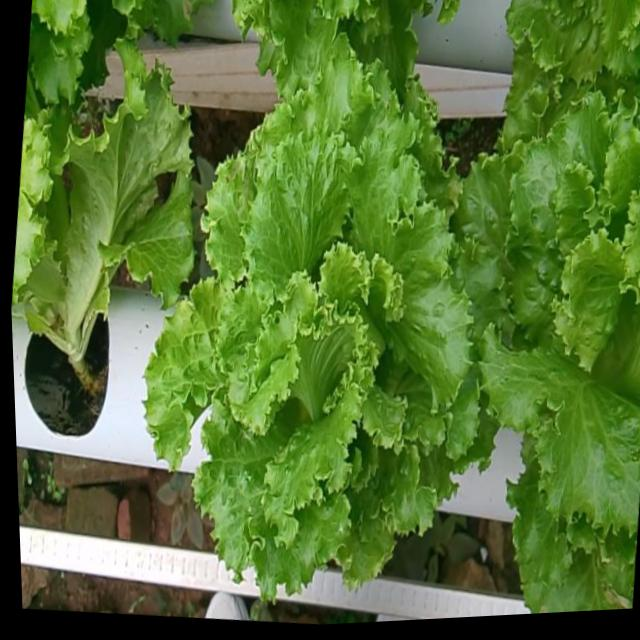Mature: (146, 64, 479, 601), (457, 97, 640, 544)
